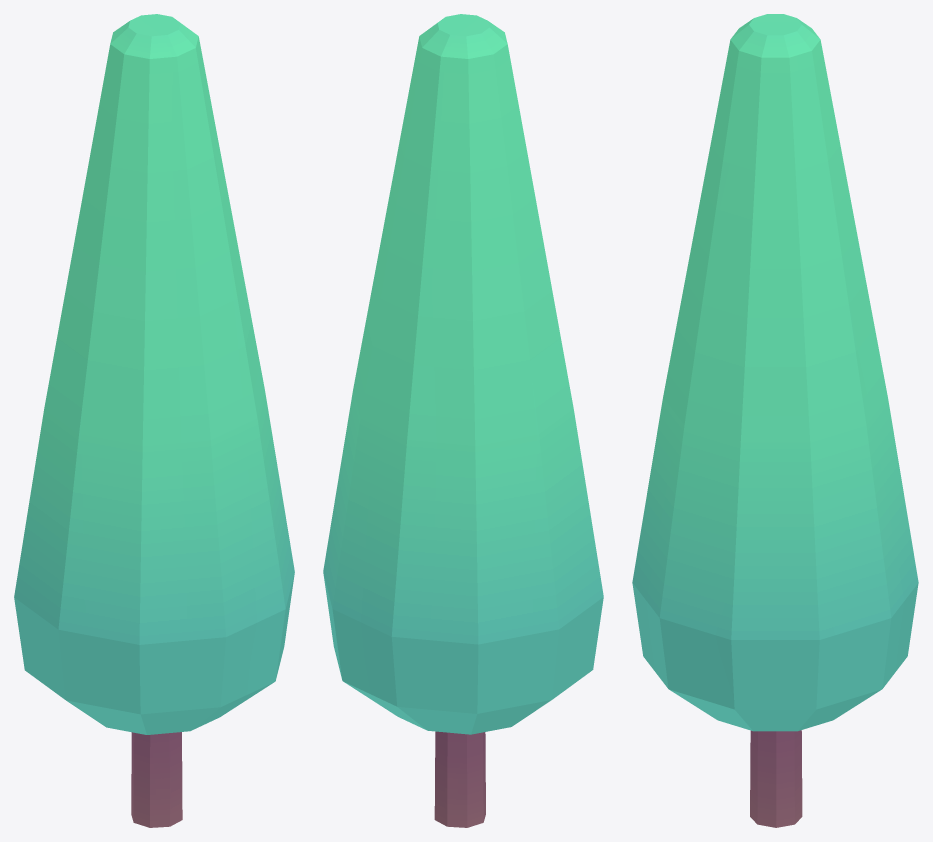
File: bush2.glb
The picture shows the model from 3 angles, left to right: view 1: azimuth 30°, elevation 25°; view 2: azimuth 150°, elevation 25°; view 3: azimuth 270°, elevation 25°; orthographic projection.
Visible parts, largest first — view 1: bush.004; view 2: bush.004; view 3: bush.004.
Boxes of the visible parts, x1,y1,x2,y2 form: bush.004: (14, 14, 294, 827); bush.004: (323, 14, 603, 827); bush.004: (632, 14, 918, 827).
Bounding box in the file's own units: 0.3858 × 1.24 × 0.4057.
1 material, 1 textured.
